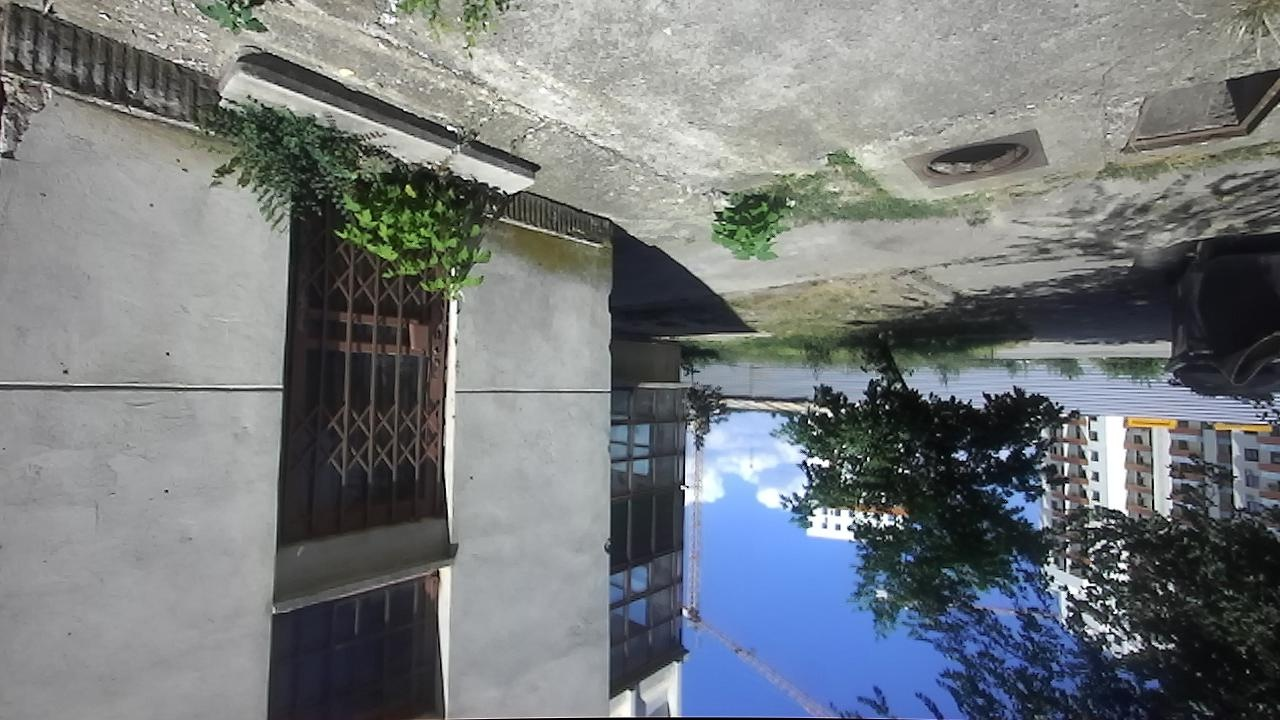drain: (1118, 65, 1280, 159), (915, 139, 1030, 185)
